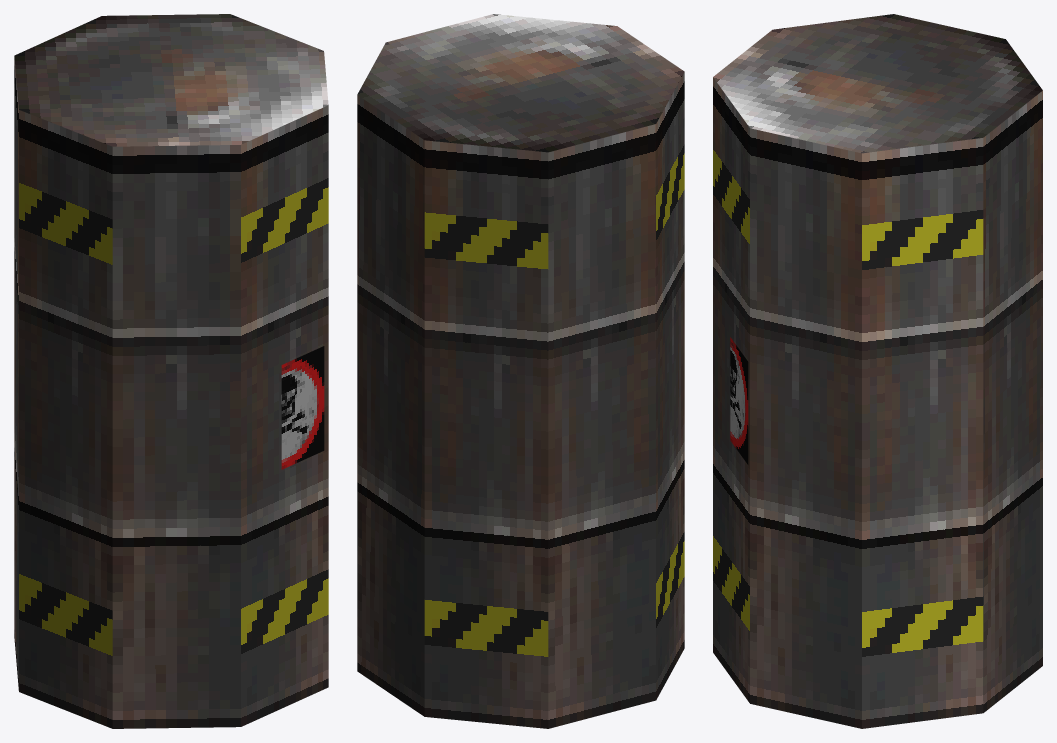
File: primary_129.glb
3 views of the same model, side by side, from view 1: azimuth 30°, elevation 25°; view 2: azimuth 150°, elevation 25°; view 3: azimuth 270°, elevation 25° (orthographic).
Visible parts, largest first — view 1: Object; view 2: Object; view 3: Object.
Boxes of the visible parts, x1,y1,x2,y2 form: Object: [14, 14, 328, 728]; Object: [357, 14, 684, 728]; Object: [713, 14, 1042, 728].
Size of the model in its own units: 0.7767 by 1.49 by 0.7767.
9 materials, 9 textured.
